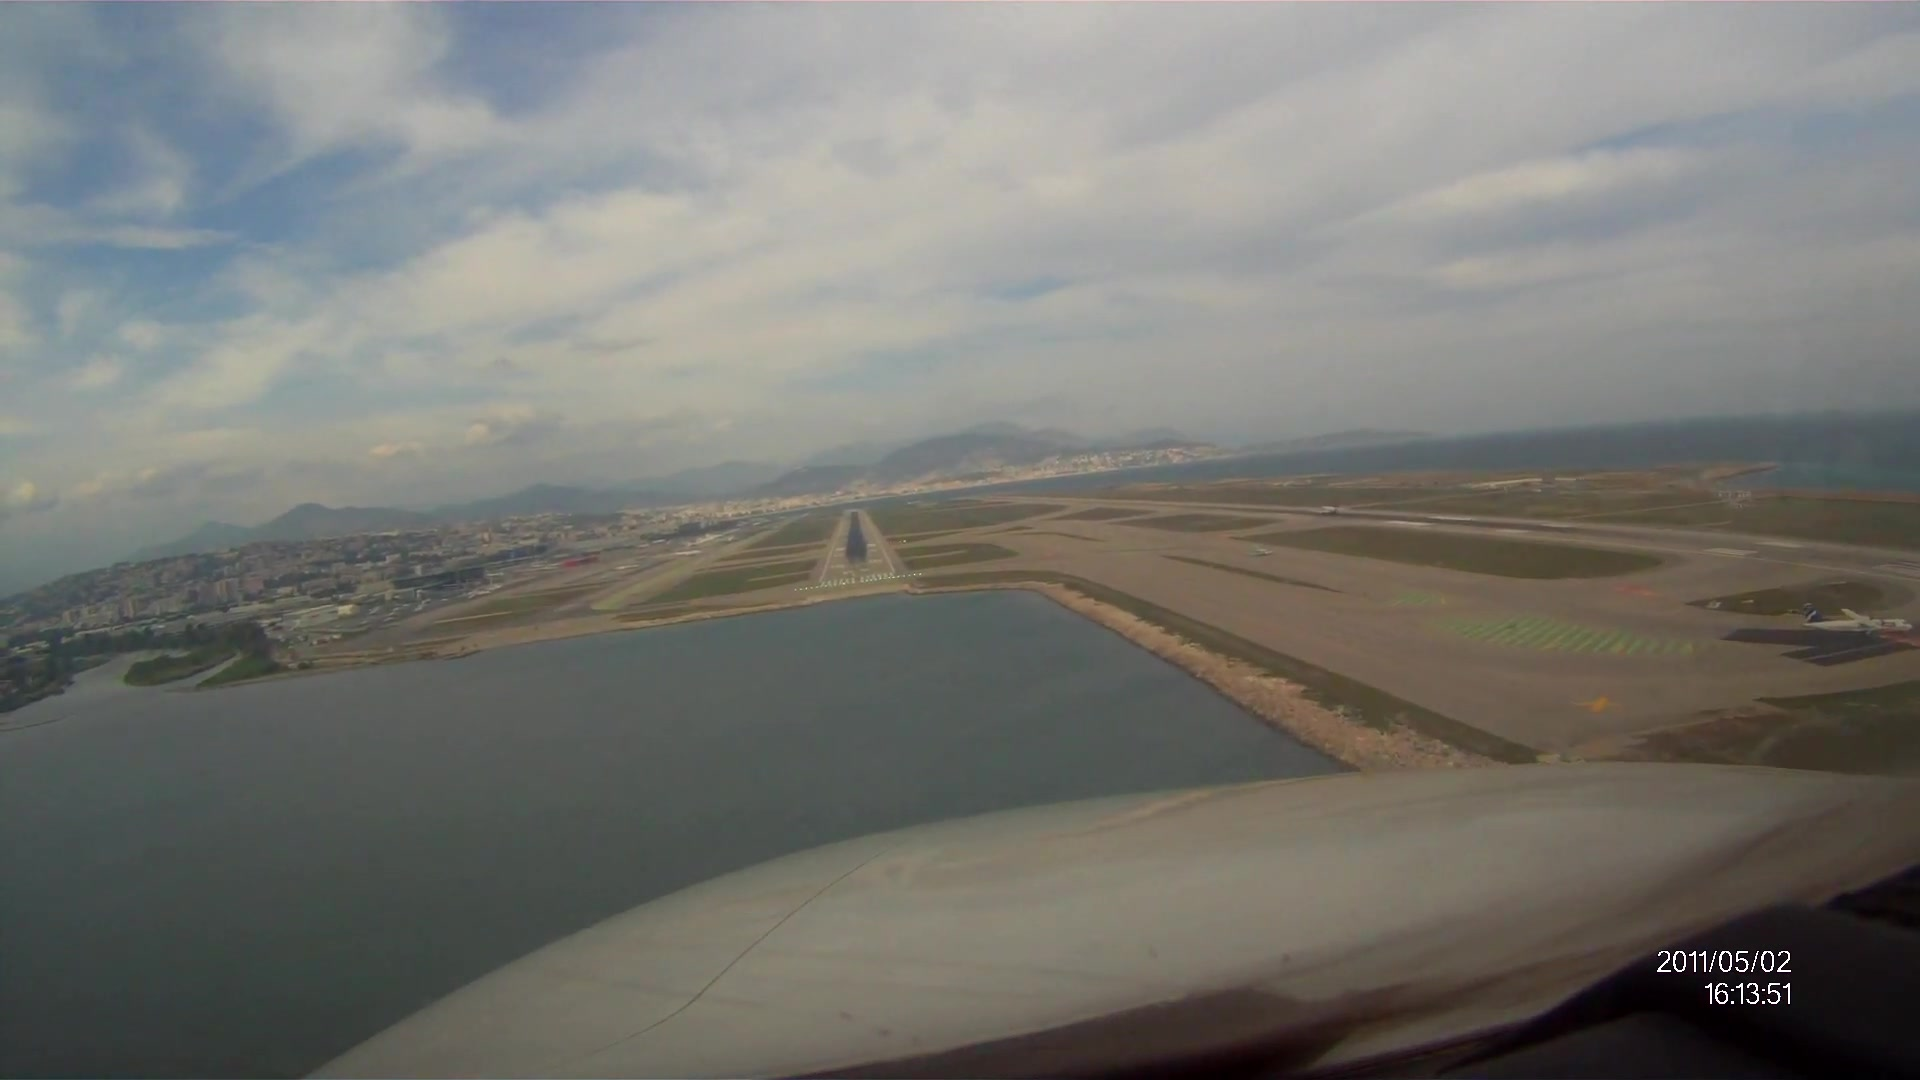entrance: (820, 568, 894, 589)
runway: (808, 508, 907, 604)
